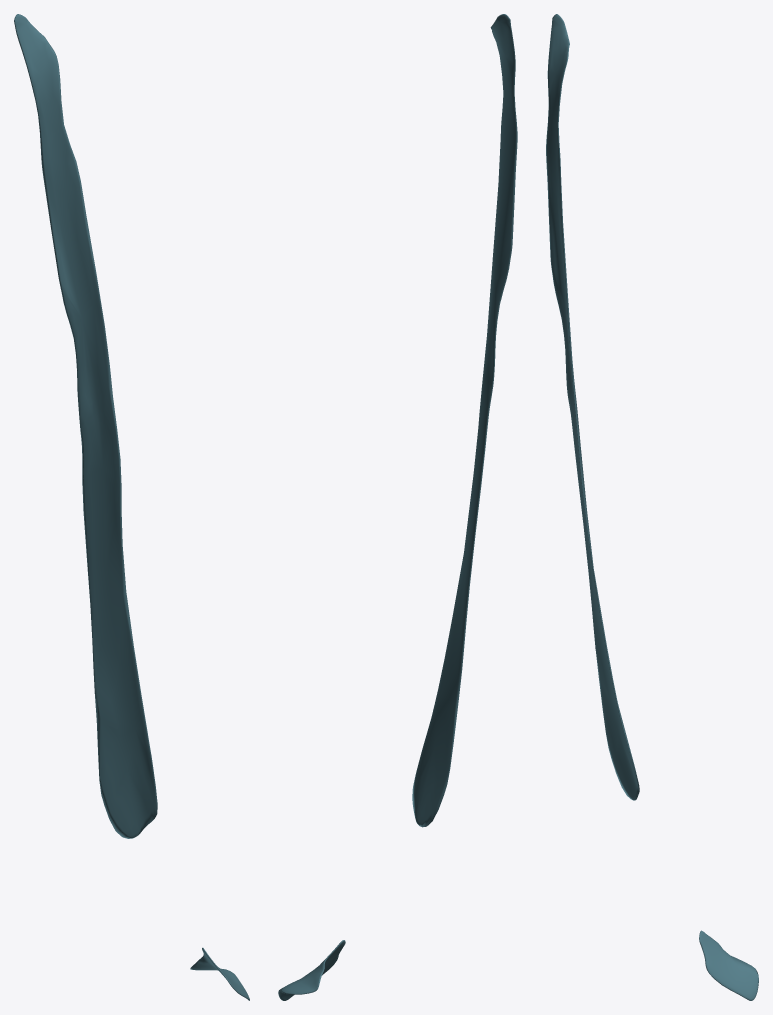
File: Adductor_magnus_medial_linea_aspera_right.glb
3 views of the same model, side by side, from view 1: azimuth 30°, elevation 25°; view 2: azimuth 150°, elevation 25°; view 3: azimuth 330°, elevation 25° (orthographic). The views are drawn at different scales.
Visible parts, largest first — view 1: Adductor_magnus_on_medial_lip_of_linea_aspera.r_Generated_Me; view 2: Adductor_magnus_on_medial_lip_of_linea_aspera.r_Generated_Me; view 3: Adductor_magnus_on_medial_lip_of_linea_aspera.r_Generated_Me.
Boxes of the visible parts, x1,y1,x2,y2 form: Adductor_magnus_on_medial_lip_of_linea_aspera.r_Generated_Me: (14, 14, 249, 1000); Adductor_magnus_on_medial_lip_of_linea_aspera.r_Generated_Me: (278, 14, 517, 1000); Adductor_magnus_on_medial_lip_of_linea_aspera.r_Generated_Me: (546, 14, 758, 1000).
Size of the model in its own units: 0.0736 by 0.317 by 0.0271.
